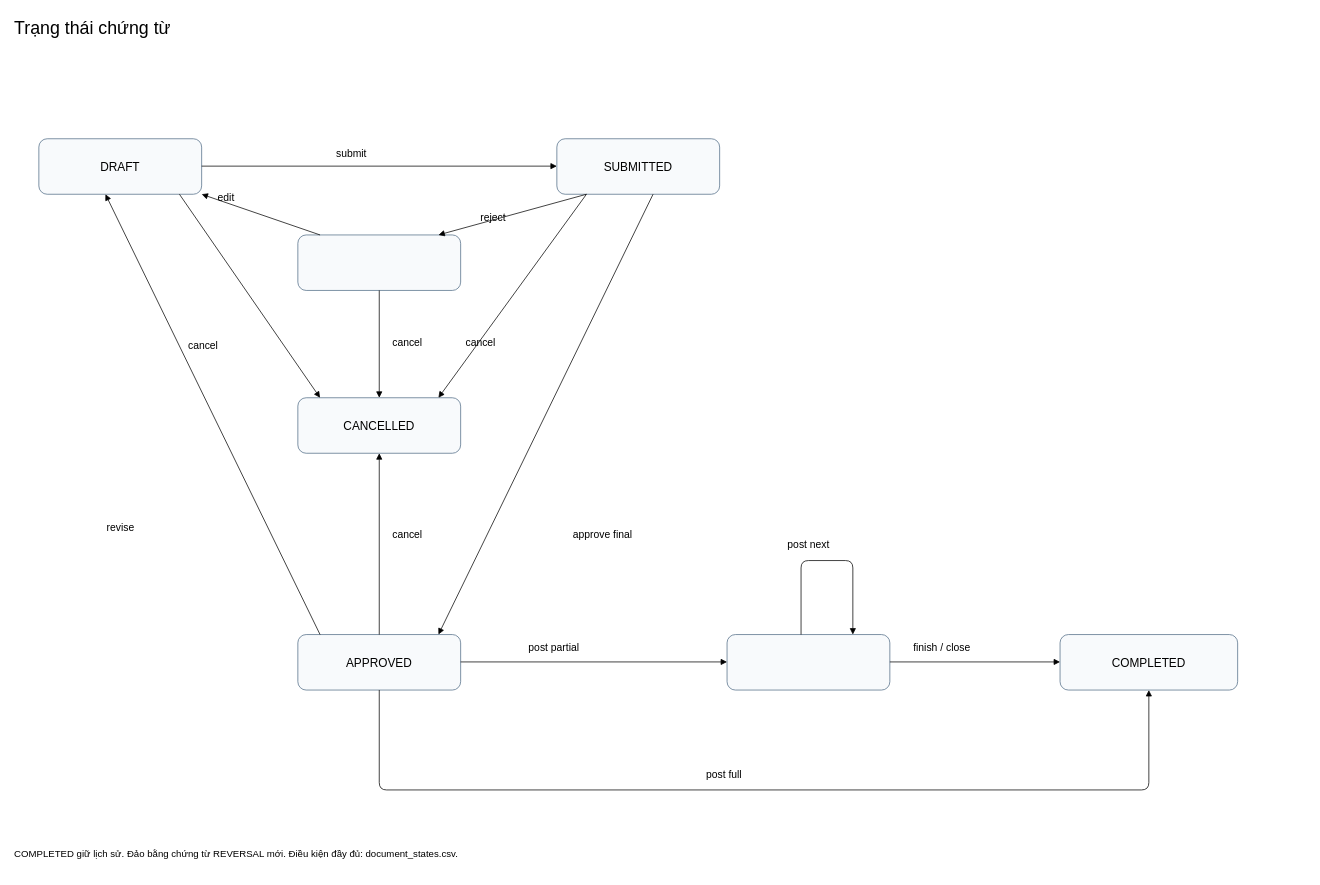
The diagram is 1320 pixels wide and 885 high, and some of its shapes have lost their labels. Here are the shapes that lost their labels. From the top down, the centre of each, then its label:
the point at 379,262: REJECTED
the point at 808,662: PARTIAL
